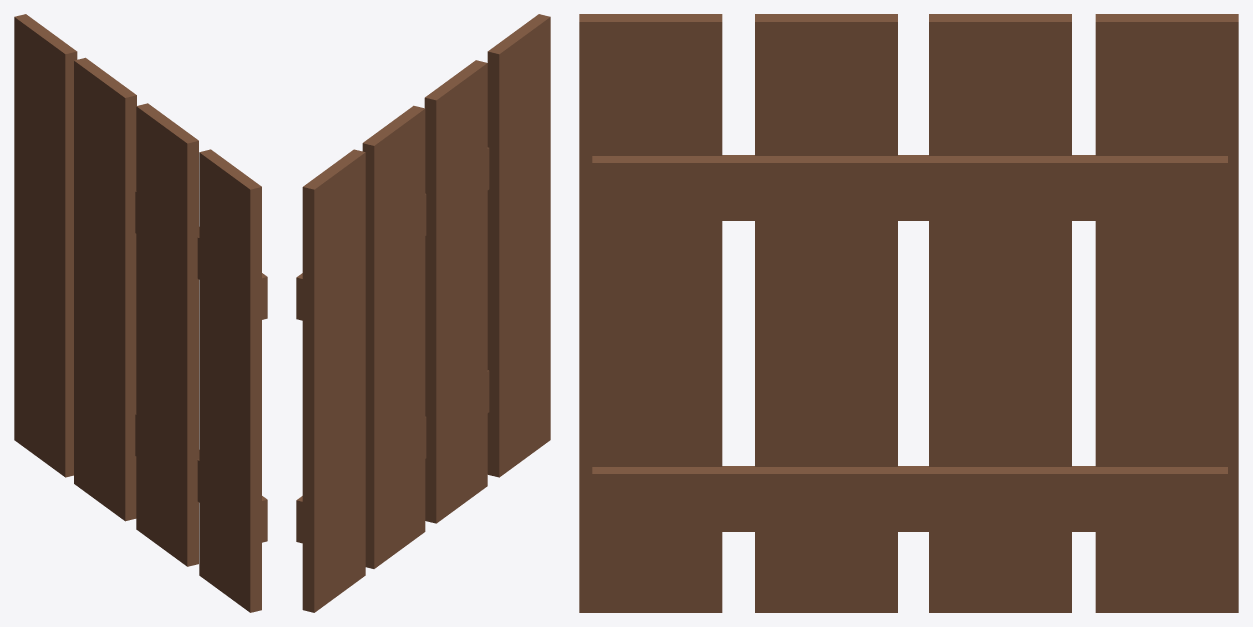
Rendered from fence.fbx.
The picture shows the model from 3 angles, left to right: view 1: azimuth 30°, elevation 25°; view 2: azimuth 150°, elevation 25°; view 3: azimuth 270°, elevation 25°; orthographic projection. The views are drawn at different scales.
Parts seen in each view (by area): view 1: fence; view 2: fence; view 3: fence.
Boxes of the visible parts, x1,y1,x2,y2 form: fence: (14,14,267,612); fence: (296,14,550,612); fence: (579,14,1238,612).
Size of the model in its own units: 0.0487 by 0.8978 by 0.908.
